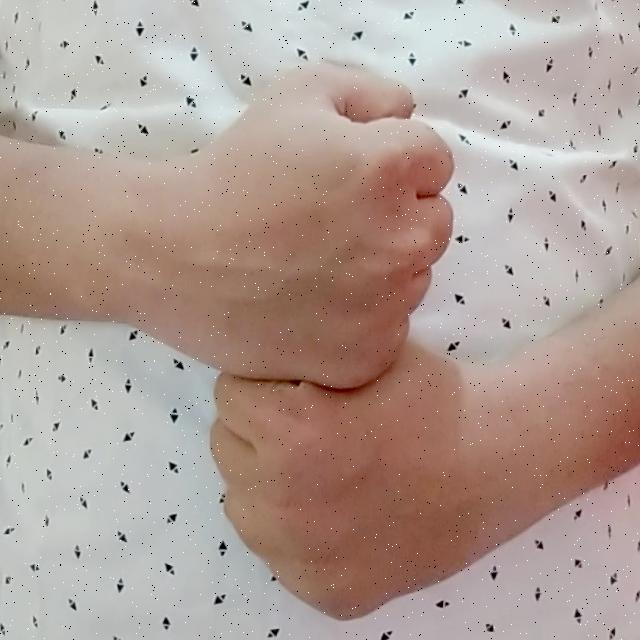G: (158, 54, 509, 627)
